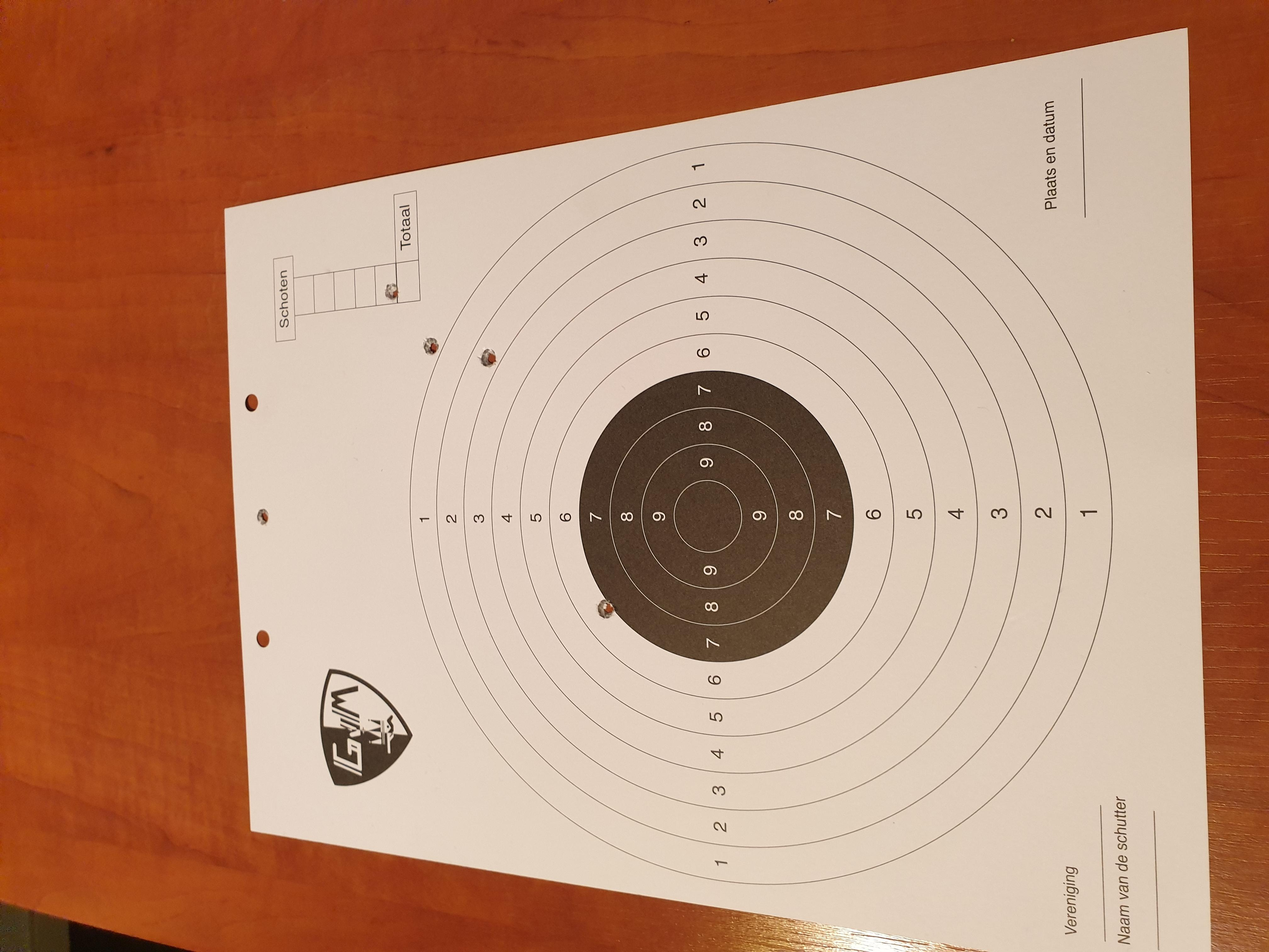hole: (443, 447, 472, 463), (777, 357, 804, 374), (795, 316, 820, 330), (866, 288, 893, 299), (567, 192, 592, 202)
